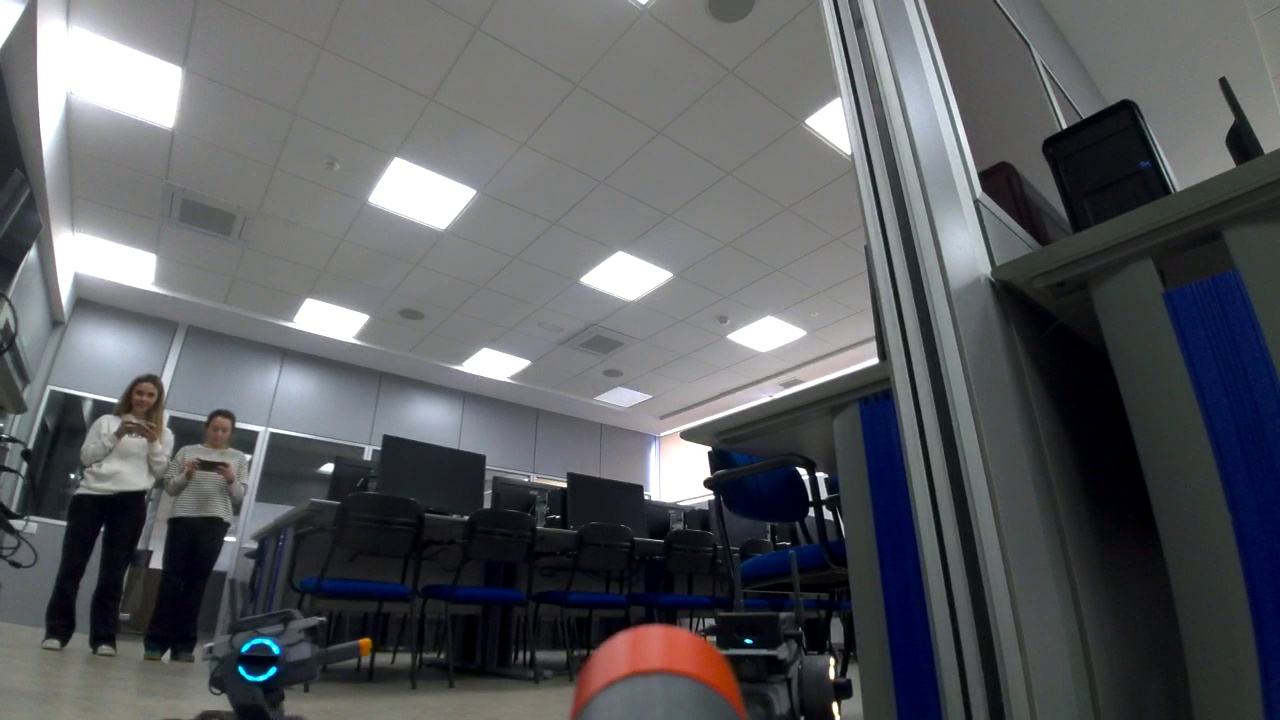robot: (191, 605, 375, 716), (713, 606, 858, 714)
